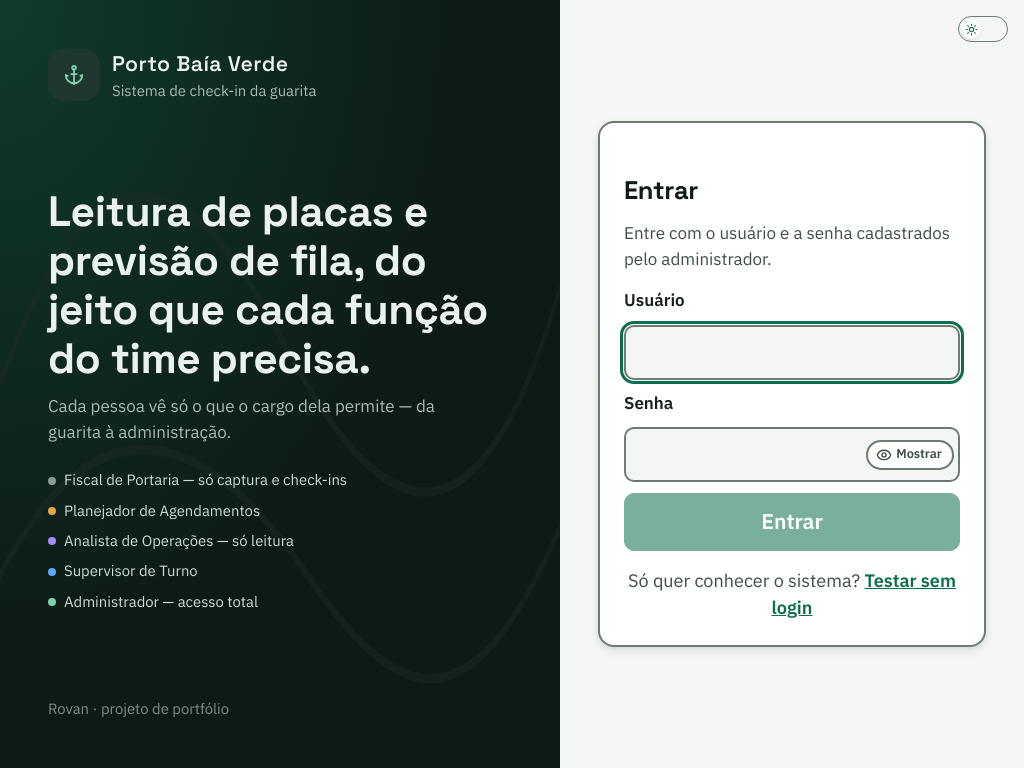
it: LoginPage › bloqueia o formulário enquanto entra
This screenshot has width=1024, height=768.
Type "maria" into the field labelled "Usuário" at point(792, 352), box [624,325,960,380]
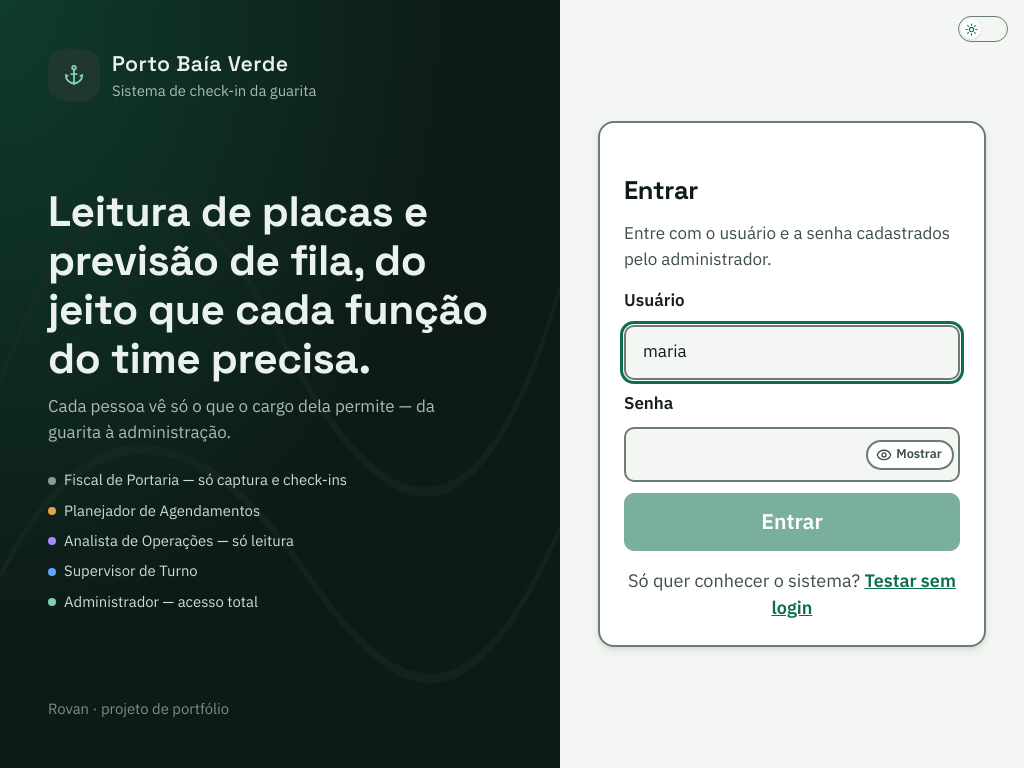
Type "s3nha-forte" into the password field labelled "Senha" at point(792, 455), box [624,427,960,482]
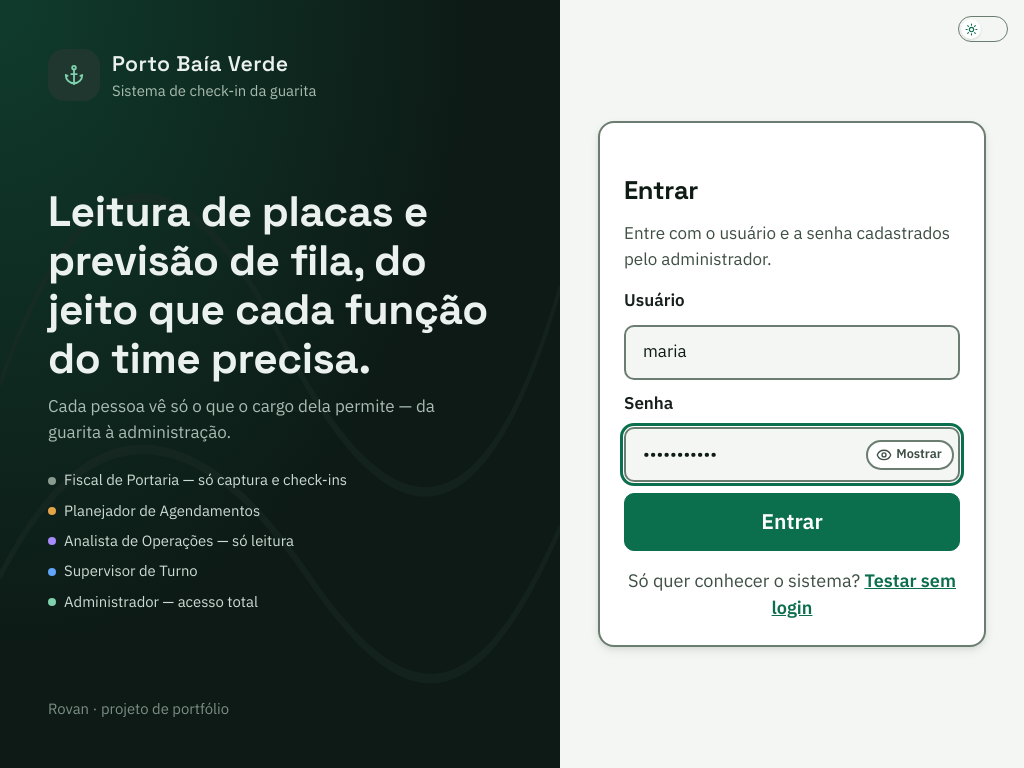
Click the button "Entrar" at point(792, 522), box [624,493,960,551]
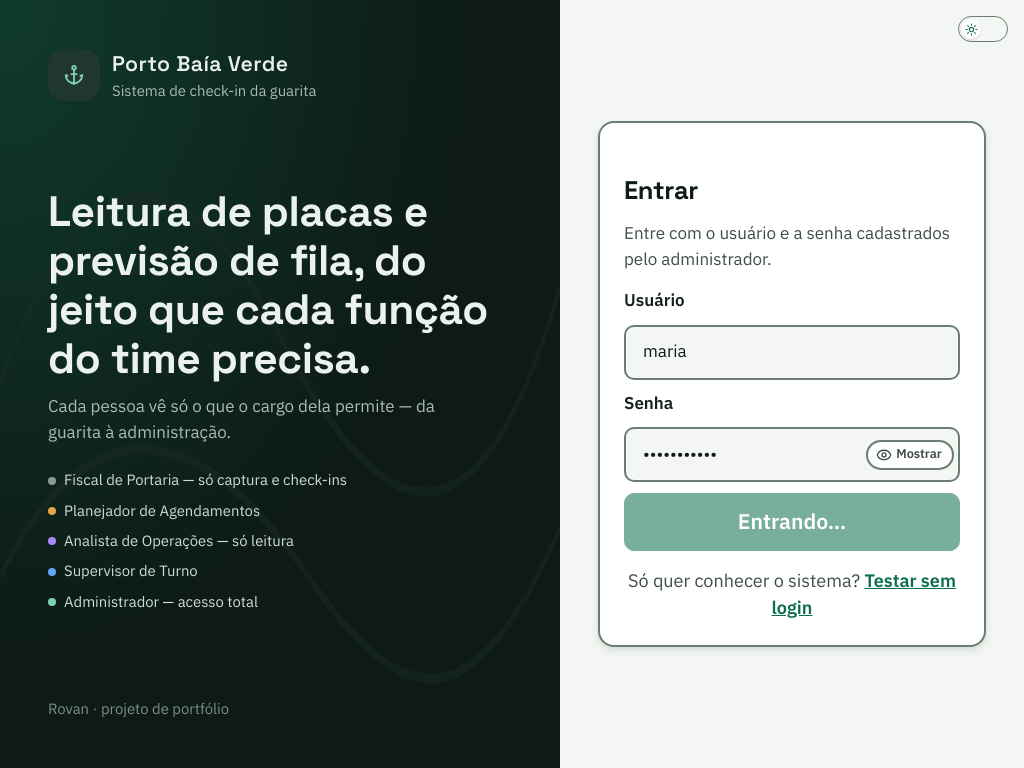
Expected: the field labelled "Usuário" is disabled, [624,325,960,380]
Now the button "Entrando…" is disabled, box [624,493,960,551]
